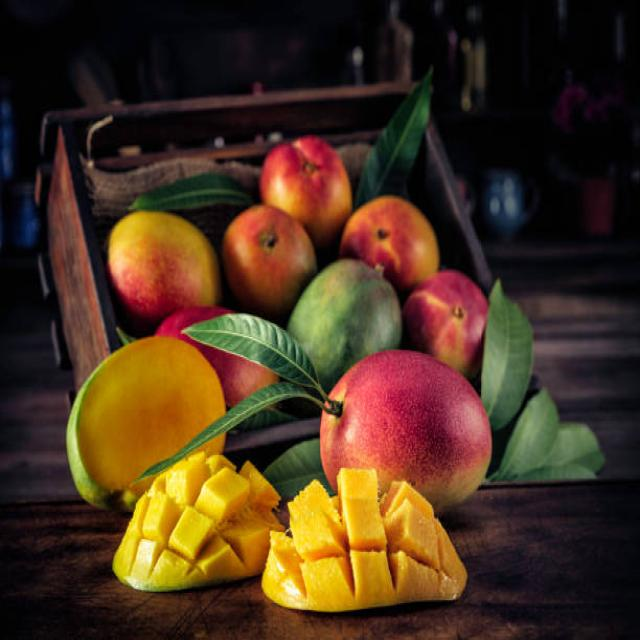mango: (320, 350, 491, 512), (66, 337, 225, 509), (288, 260, 400, 390), (108, 211, 221, 331), (224, 204, 316, 317), (261, 136, 352, 246), (339, 196, 440, 292), (402, 270, 488, 378)
